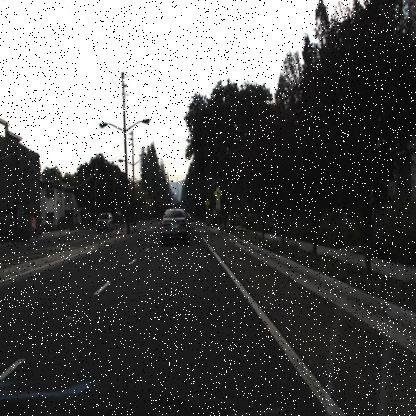car: (158, 204, 194, 249), (95, 211, 116, 235), (94, 210, 112, 235)
